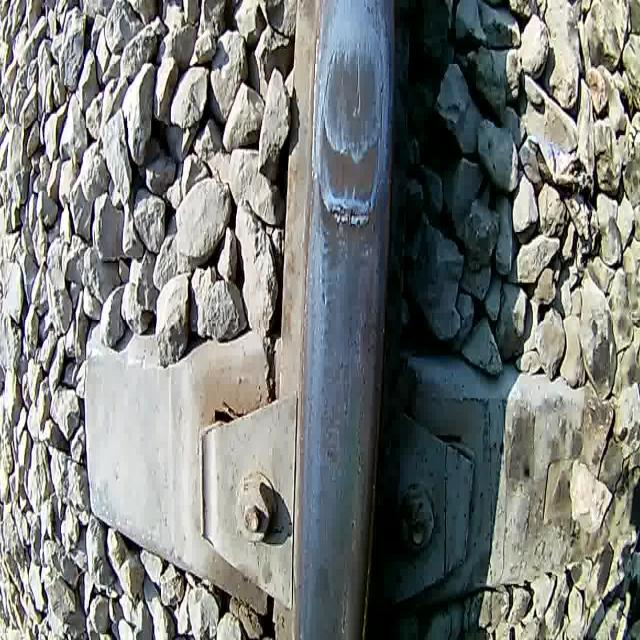Squats: (310, 33, 392, 277)
